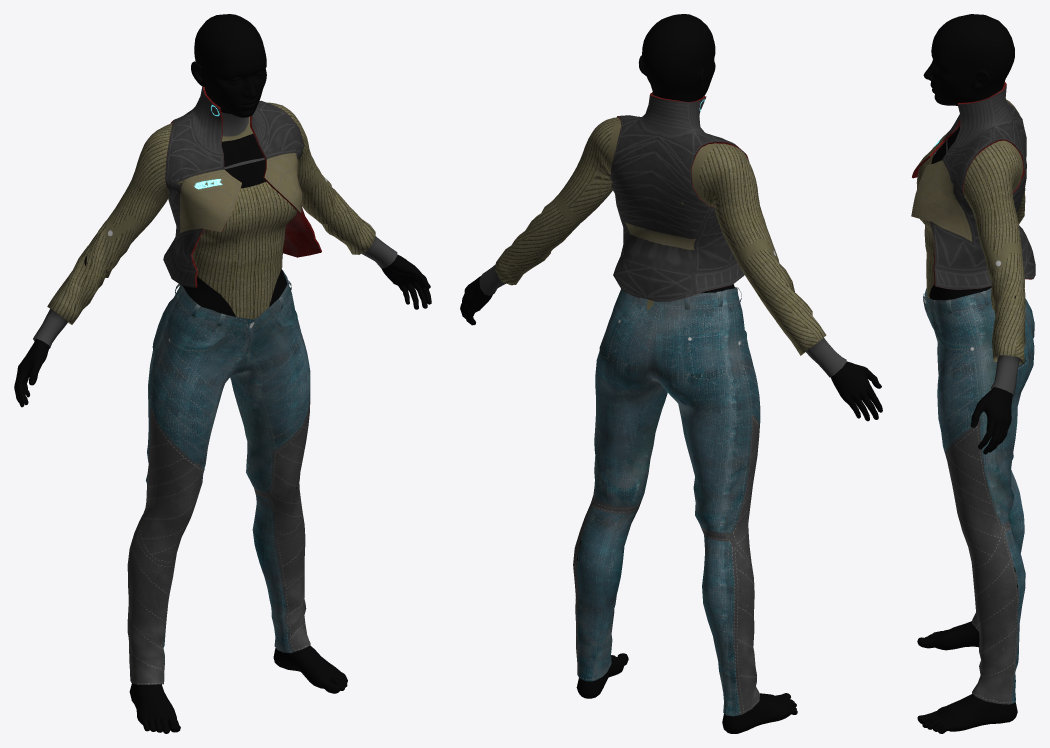
The model's file is cyber-pop_low_poly.glb.
The picture shows the model from 3 angles, left to right: view 1: azimuth 30°, elevation 25°; view 2: azimuth 150°, elevation 25°; view 3: azimuth 270°, elevation 25°; orthographic projection. The views are drawn at different scales.
Parts seen in each view (by area): view 1: polySurface10, polySurface15, Base_Body1, polySurface5; view 2: polySurface10, polySurface5, polySurface15, Base_Body1; view 3: polySurface10, Base_Body1, polySurface5, polySurface15.
Boxes of the visible parts, x1,y1,x2,y2 form: polySurface10: [127, 270, 310, 684]; polySurface15: [33, 102, 397, 348]; Base_Body1: [14, 14, 431, 733]; polySurface5: [163, 86, 321, 287]; polySurface10: [573, 287, 760, 716]; polySurface5: [610, 92, 749, 301]; polySurface15: [479, 117, 846, 377]; Base_Body1: [460, 14, 882, 733]; polySurface10: [923, 288, 1034, 704]; Base_Body1: [917, 14, 1017, 733]; polySurface5: [911, 81, 1035, 289]; polySurface15: [916, 99, 1025, 396].
Size of the model in its own units: 1.09 by 1.71 by 0.2875.
4 materials, 3 textured.
